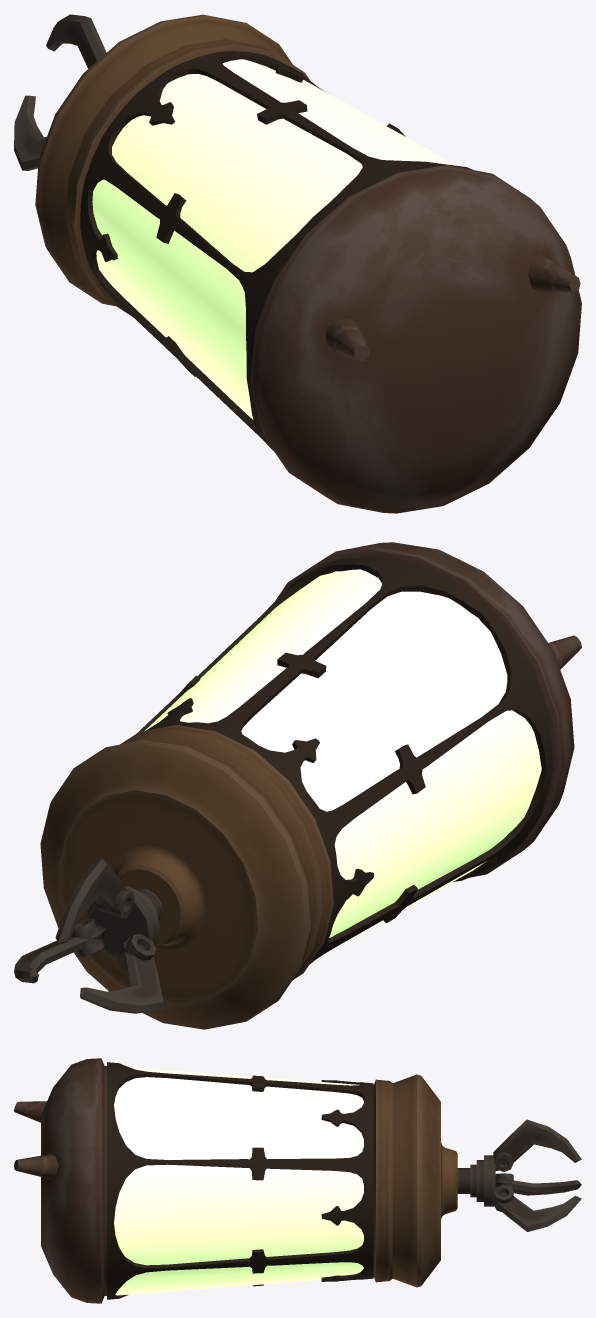
The model's file is GrandmaBossSlimeTank.fbx.
The picture shows the model from 3 angles, top to bottom: view 1: azimuth 30°, elevation 25°; view 2: azimuth 150°, elevation 25°; view 3: azimuth 270°, elevation 25°; orthographic projection. The views are drawn at different scales.
Parts seen in each view (by area): view 1: SlimeTank_Big, bigDrupGlass1, bigDrumDetail1, grap4, grap1, drumLegs3, drumLegs2; view 2: SlimeTank_Big, bigDrupGlass1, bigDrumDetail1, grap1, baseGrap, grap4, grap5, grap2, grap6, drumLegs2; view 3: bigDrupGlass1, SlimeTank_Big, bigDrumDetail1, grap4, grap5, baseGrap, grap1, drumLegs3, drumLegs2.
Part boxes in pixels (box(x1,y1,x2,y2)): SlimeTank_Big: box(35, 14, 581, 513); bigDrupGlass1: box(92, 59, 456, 419); bigDrumDetail1: box(80, 51, 472, 450); grap4: box(46, 14, 106, 68); grap1: box(14, 95, 46, 170); drumLegs3: box(528, 254, 580, 292); drumLegs2: box(325, 319, 369, 360); SlimeTank_Big: box(40, 542, 574, 1029); bigDrupGlass1: box(145, 569, 541, 949); bigDrumDetail1: box(137, 557, 553, 964); grap1: box(80, 937, 164, 1013); baseGrap: box(87, 886, 162, 958); grap4: box(55, 858, 126, 943); grap5: box(14, 925, 106, 983); grap2: box(117, 934, 156, 971); grap6: box(71, 918, 104, 956); drumLegs2: box(548, 635, 581, 669); bigDrupGlass1: box(114, 1067, 363, 1295); SlimeTank_Big: box(41, 1058, 457, 1303); bigDrumDetail1: box(107, 1062, 373, 1299); grap4: box(493, 1119, 581, 1170); grap5: box(493, 1195, 581, 1231); baseGrap: box(457, 1155, 495, 1206); grap1: box(495, 1178, 581, 1195); drumLegs3: box(14, 1154, 58, 1179); drumLegs2: box(14, 1101, 46, 1122).
Bounding box in the file's own units: 863 × 863 × 2000.
